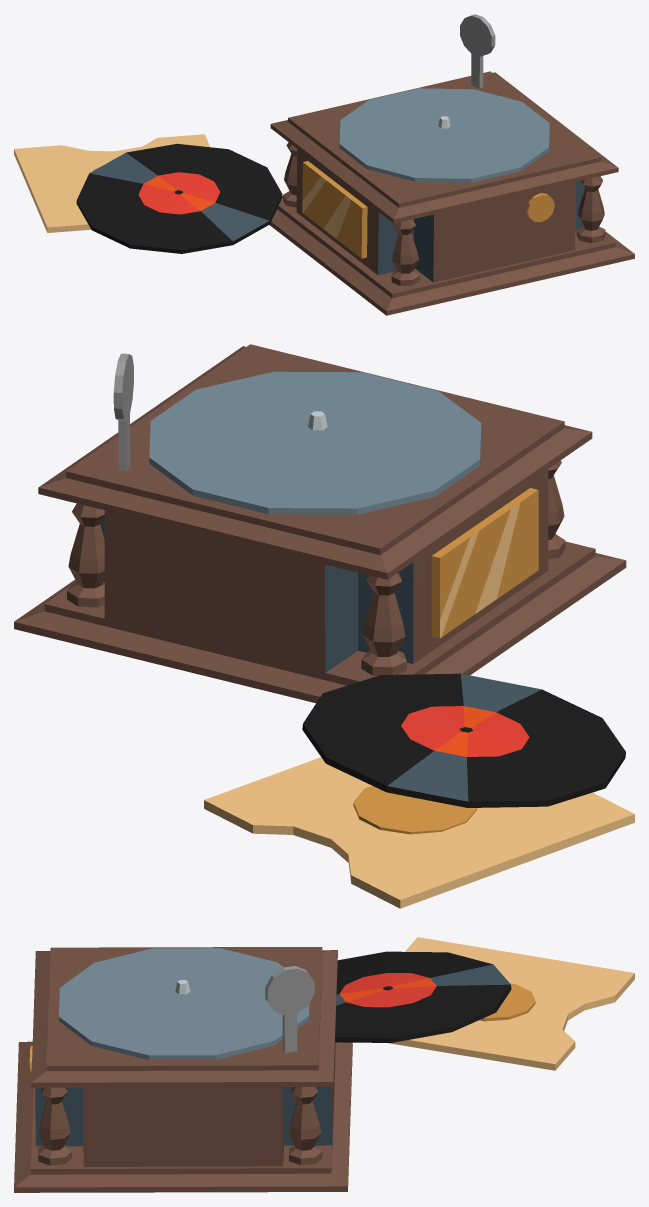
File: UltraNakedGramophone.fbx
3 renders of one model, top to bottom at view 1: azimuth 30°, elevation 25°; view 2: azimuth 150°, elevation 25°; view 3: azimuth 270°, elevation 25°, orthographic. The views are drawn at different scales.
Parts seen in each view (by area): view 1: group225046476; view 2: group225046476; view 3: group225046476.
Part boxes in pixels (x1=…): group225046476: x1=14, y1=14, x2=634, y2=315; group225046476: x1=14, y1=344, x2=634, y2=908; group225046476: x1=14, y1=937, x2=634, y2=1192.
Bounding box in the file's own units: 80.54 × 30.59 × 85.84.
